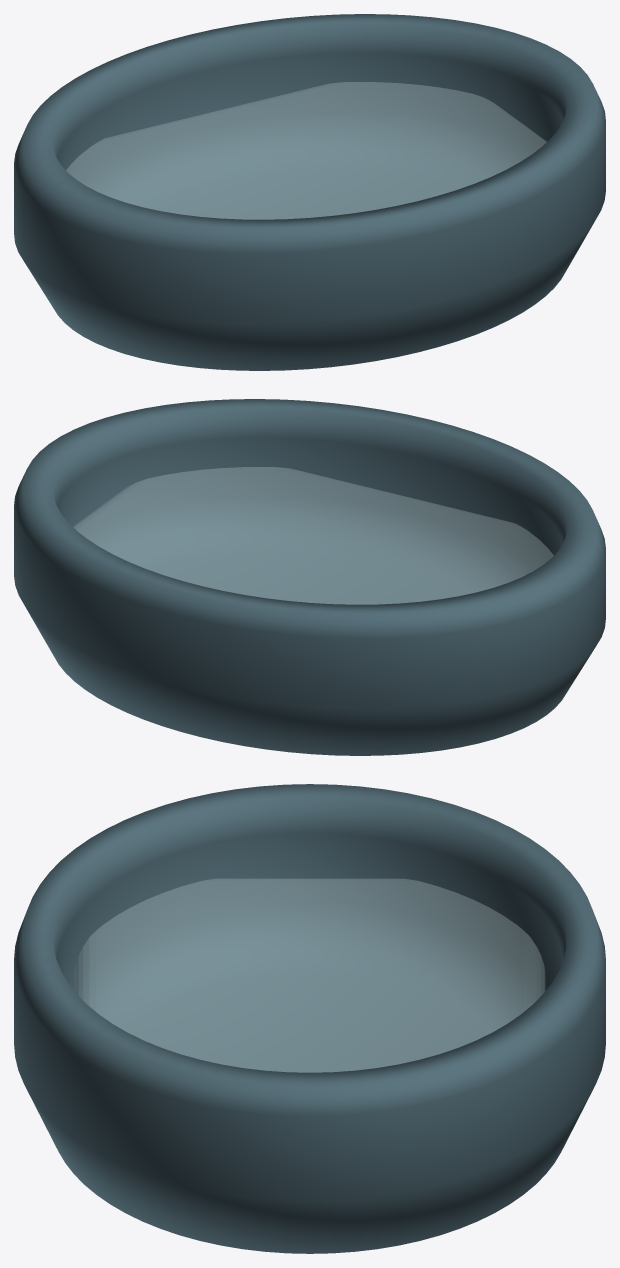
The picture shows the model from 3 angles, top to bottom: view 1: azimuth 30°, elevation 25°; view 2: azimuth 150°, elevation 25°; view 3: azimuth 270°, elevation 25°; orthographic projection. The views are drawn at different scales.
Parts seen in each view (by area): view 1: basin-boundary, environment-water; view 2: basin-boundary, environment-water; view 3: basin-boundary, environment-water.
Part boxes in pixels (x1=…): basin-boundary: x1=14, y1=14, x2=605, y2=370; environment-water: x1=66, y1=82, x2=546, y2=219; basin-boundary: x1=14, y1=399, x2=605, y2=755; environment-water: x1=73, y1=467, x2=553, y2=604; basin-boundary: x1=14, y1=784, x2=605, y2=1253; environment-water: x1=75, y1=879, x2=544, y2=1072.
Size of the model in its own units: 2.76 by 0.8 by 2.2.
